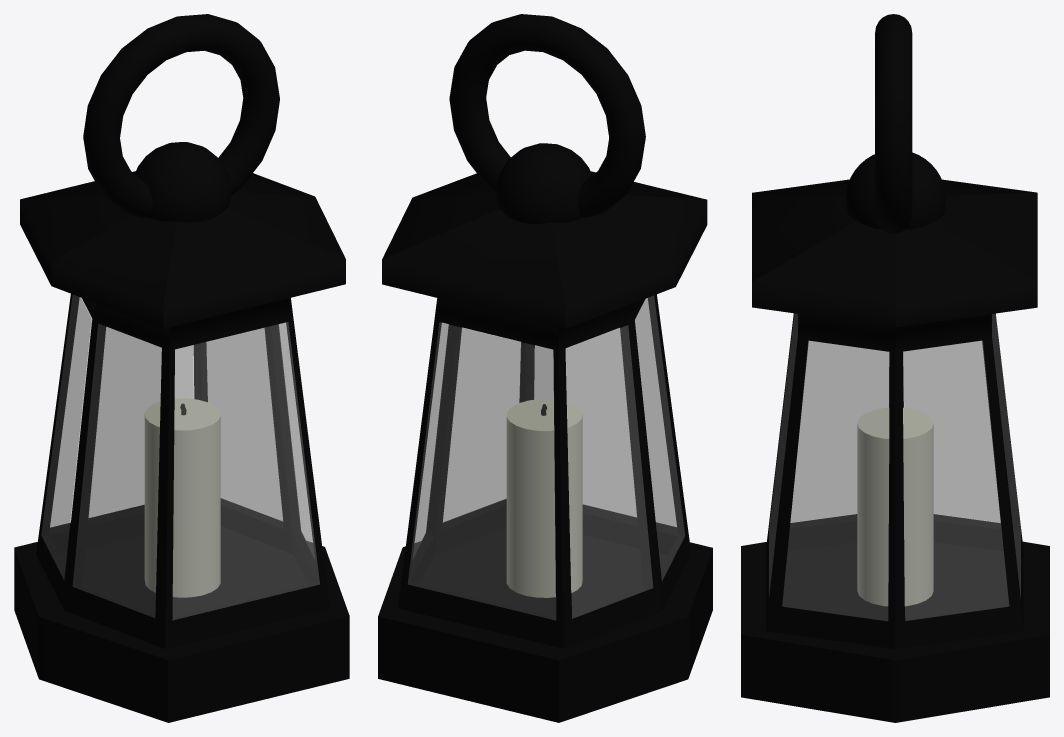
Rendered from Lantern_Test.fbx.
3 renders of one model, left to right at view 1: azimuth 30°, elevation 25°; view 2: azimuth 150°, elevation 25°; view 3: azimuth 270°, elevation 25°, orthographic.
Parts seen in each view (by area): view 1: pTorus3; view 2: pTorus3; view 3: pTorus3.
Part boxes in pixels (x1,y1,x2,y2): pTorus3: [14, 14, 349, 722]; pTorus3: [378, 14, 712, 722]; pTorus3: [741, 14, 1049, 722].
Bounding box in the file's own units: 18.96 × 39.76 × 17.7.
